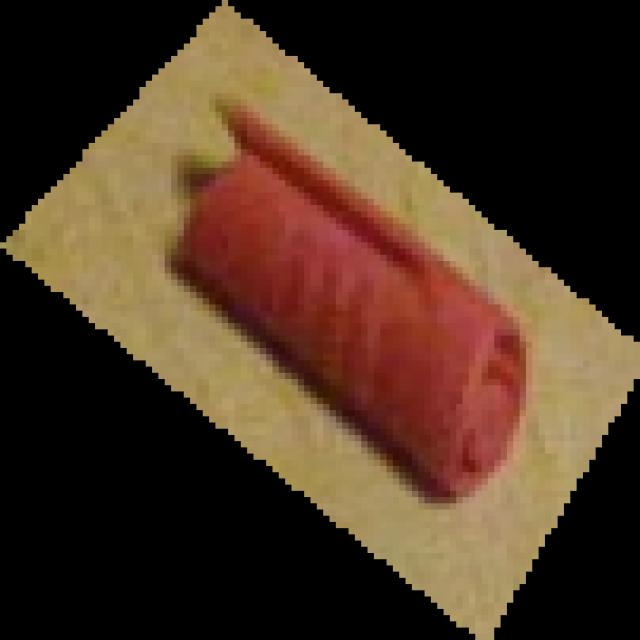red: (1, 1, 640, 640)
